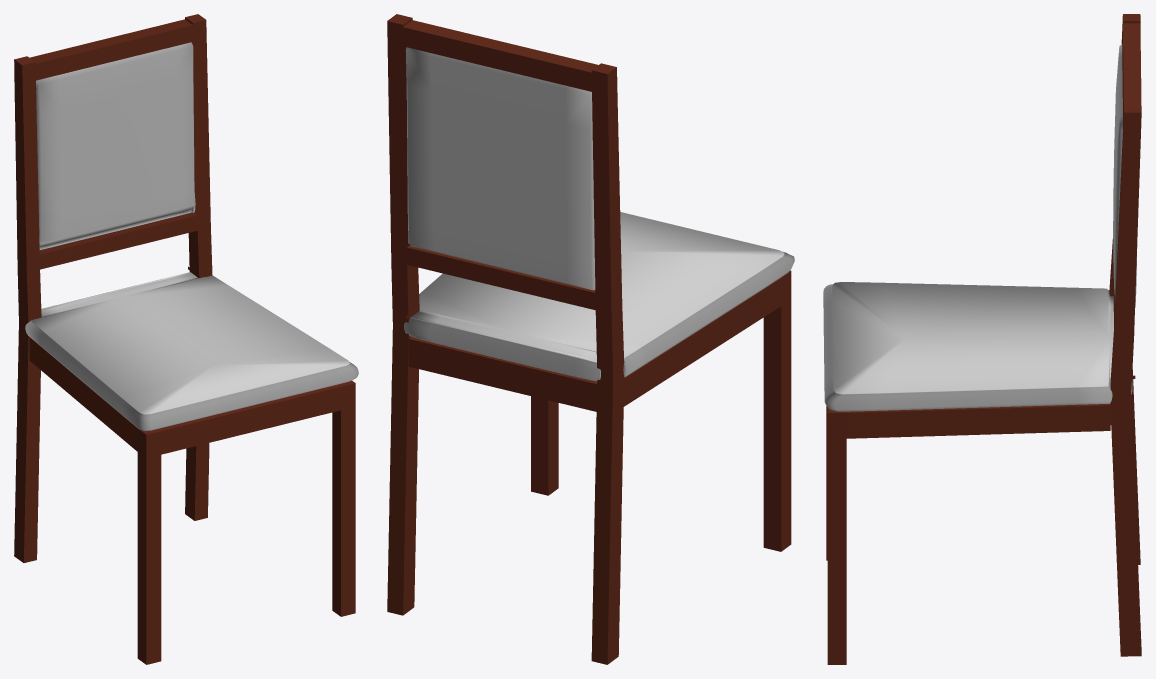
The model's file is IKEA-Folke_Chair-3D.obj.
3 renders of one model, left to right at view 1: azimuth 30°, elevation 25°; view 2: azimuth 150°, elevation 25°; view 3: azimuth 270°, elevation 25°, orthographic. The views are drawn at different scales.
Parts seen in each view (by area): view 1: Object01; view 2: Object01; view 3: Object01.
Boxes of the visible parts, <box> form: Object01: <box>14,14,358,664</box>; Object01: <box>387,14,794,664</box>; Object01: <box>823,14,1141,664</box>.
Size of the model in its own units: 431 by 936 by 496.
